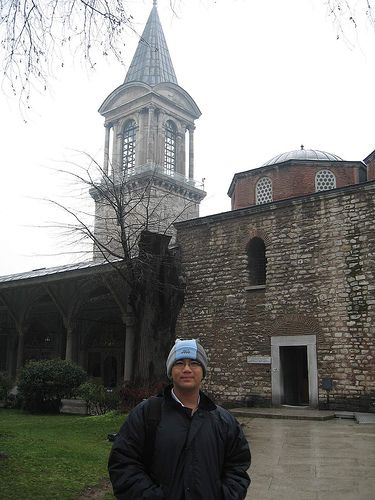without_mask: (168, 350, 210, 397)
